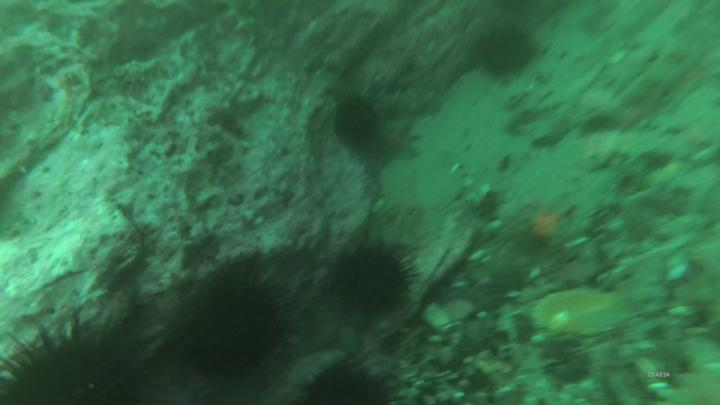echinus: (1, 309, 169, 405), (171, 268, 305, 384), (329, 237, 420, 327), (296, 354, 404, 405), (472, 21, 540, 82), (329, 92, 387, 152)
